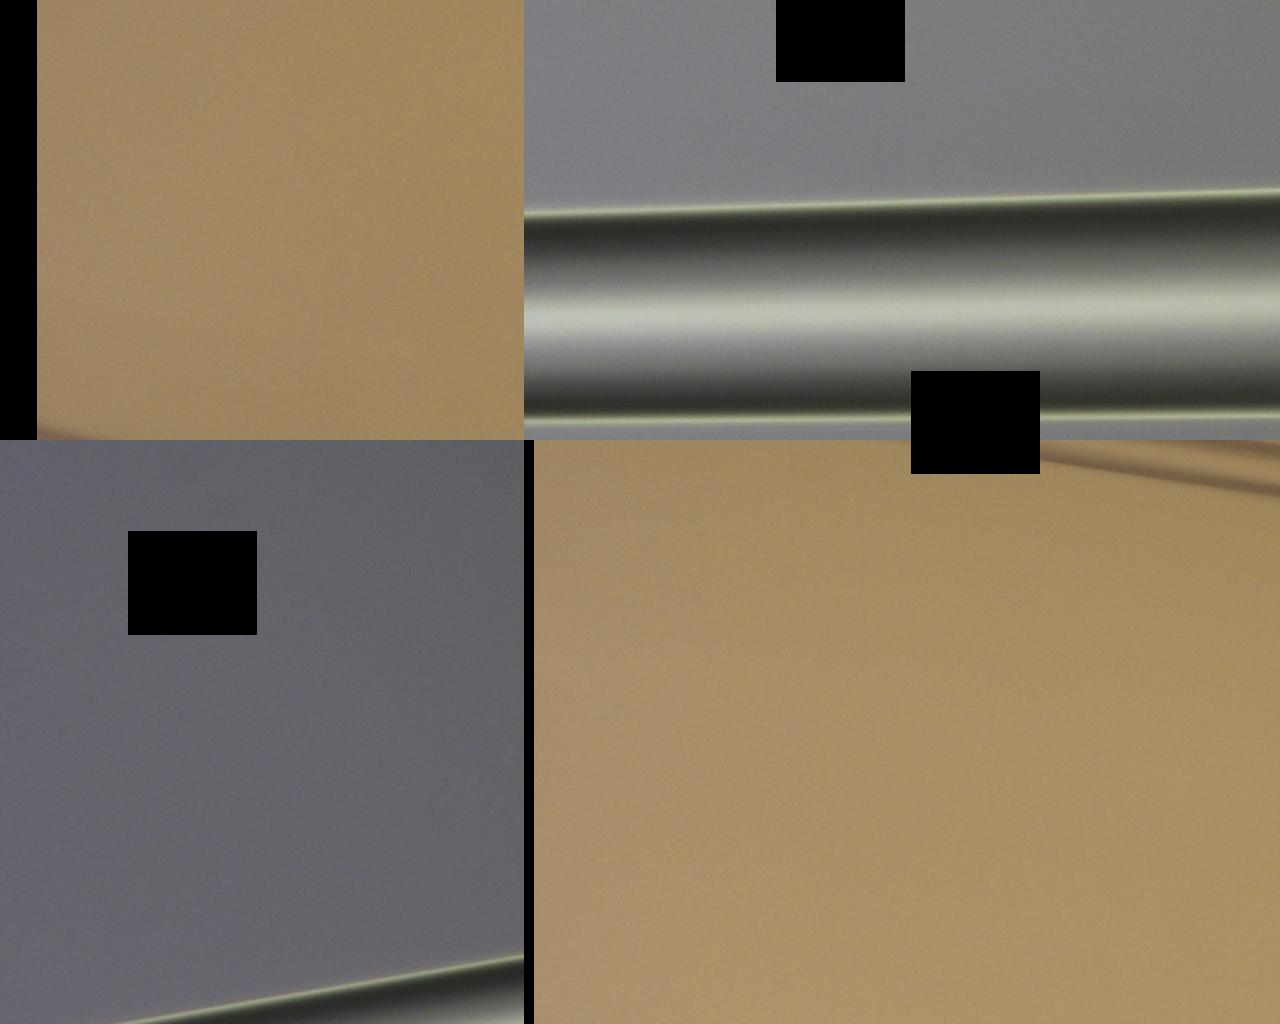fiber: (640, 405, 1280, 614), (0, 432, 640, 614), (640, 832, 1280, 912)
